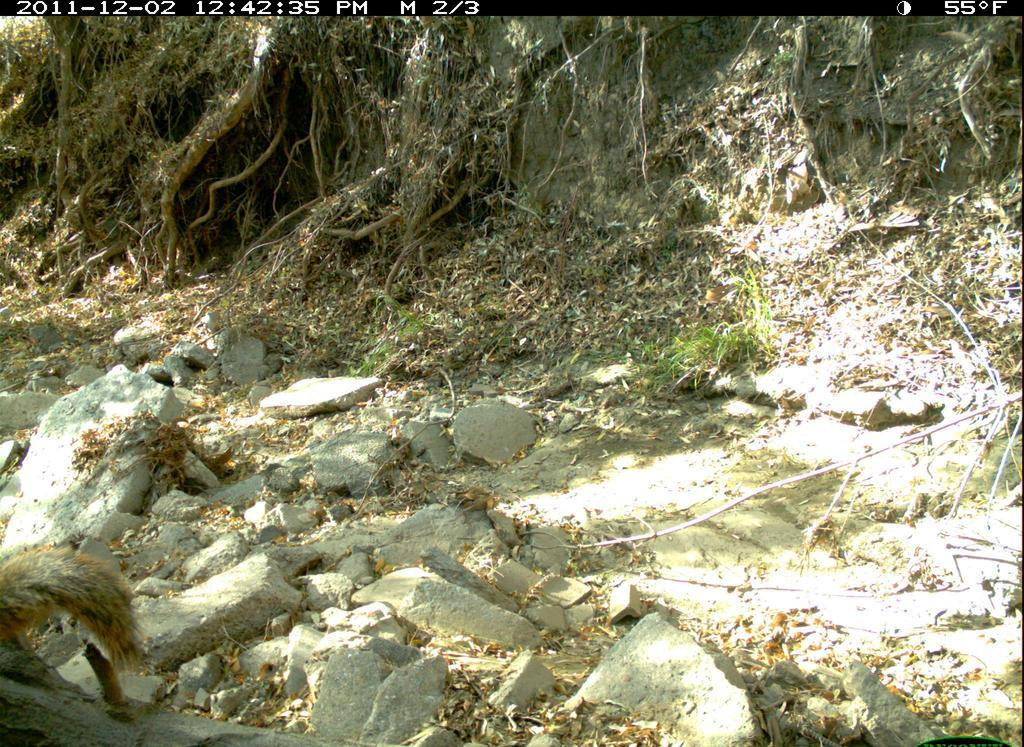squirrel: (1, 509, 163, 708)
